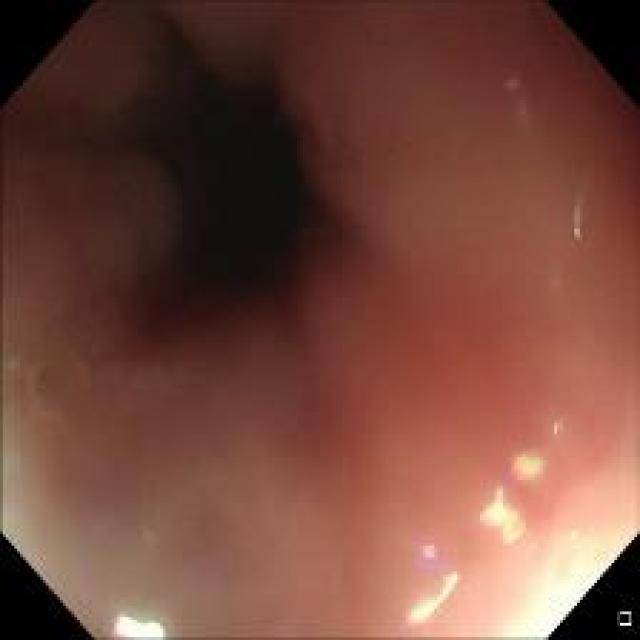bubbles: (91, 364, 128, 380), (140, 520, 162, 541)
color misalignment: (475, 482, 525, 545), (502, 69, 534, 128), (572, 192, 584, 238), (420, 538, 439, 564)
contrast: (105, 30, 340, 349)
saturation: (494, 535, 626, 636)
specularity: (405, 570, 461, 625), (479, 486, 525, 540), (114, 611, 170, 636)
